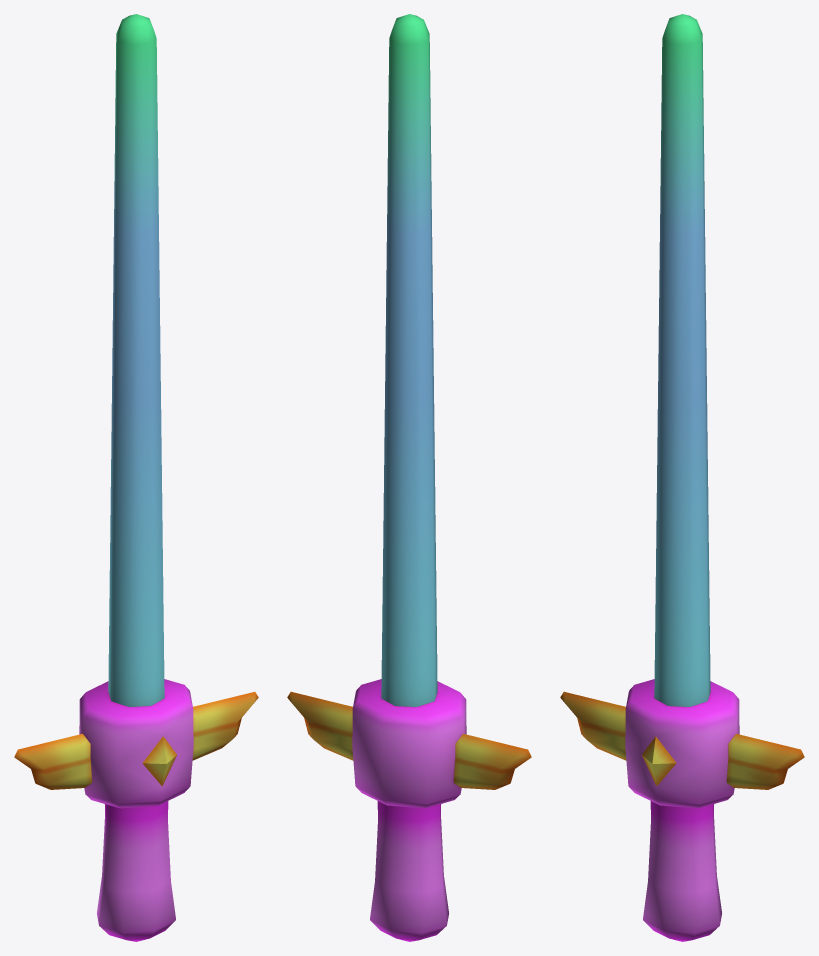
Rendered from SWORD.fbx.
The picture shows the model from 3 angles, left to right: view 1: azimuth 30°, elevation 25°; view 2: azimuth 150°, elevation 25°; view 3: azimuth 330°, elevation 25°; orthographic projection.
Parts seen in each view (by area): view 1: sword; view 2: sword; view 3: sword.
Part boxes in pixels (x1,y1,x2,y2): sword: [14, 14, 258, 941]; sword: [287, 14, 531, 941]; sword: [560, 14, 804, 941].
Size of the model in its own units: 26.43 by 95.75 by 10.66.
